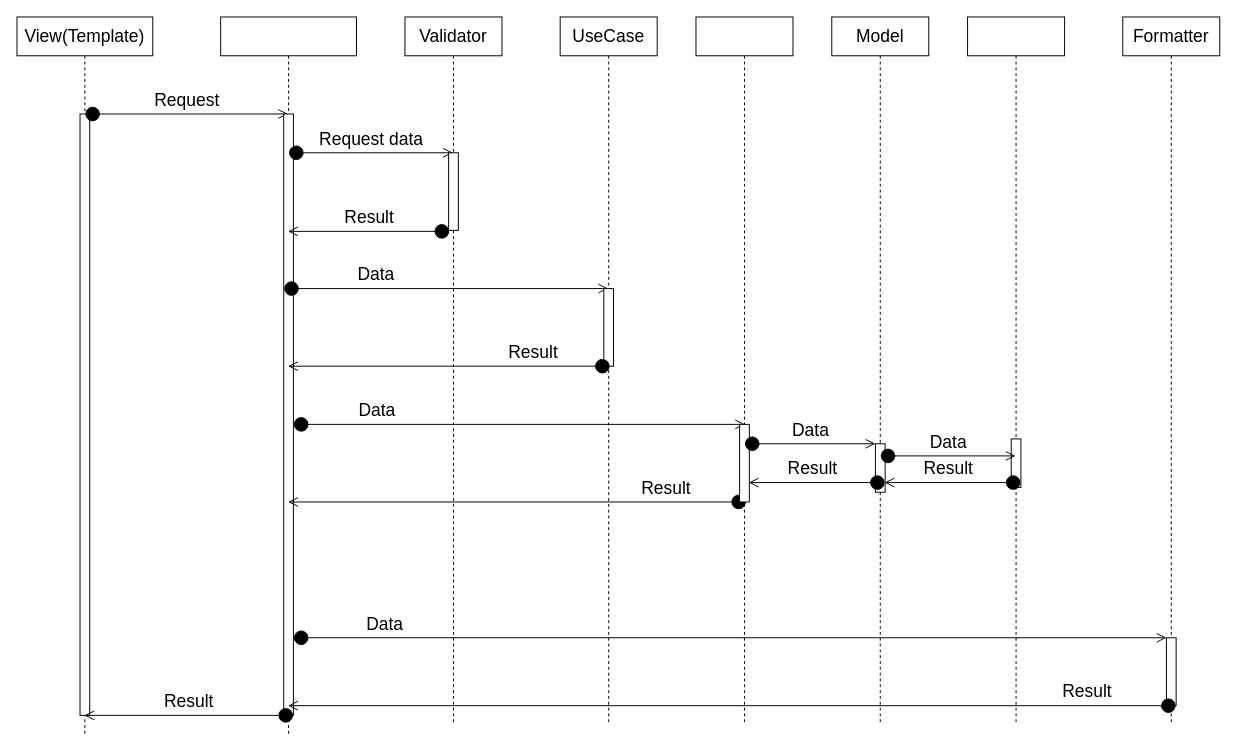
Image size: 1237x752. Some labels were removed from this diagram. The box of each missing label's shape, as (x1, y1, x2, y2) in pixels:
Contorller: (220, 16, 356, 735)
DB: (967, 16, 1065, 725)
Repository: (695, 16, 793, 725)
